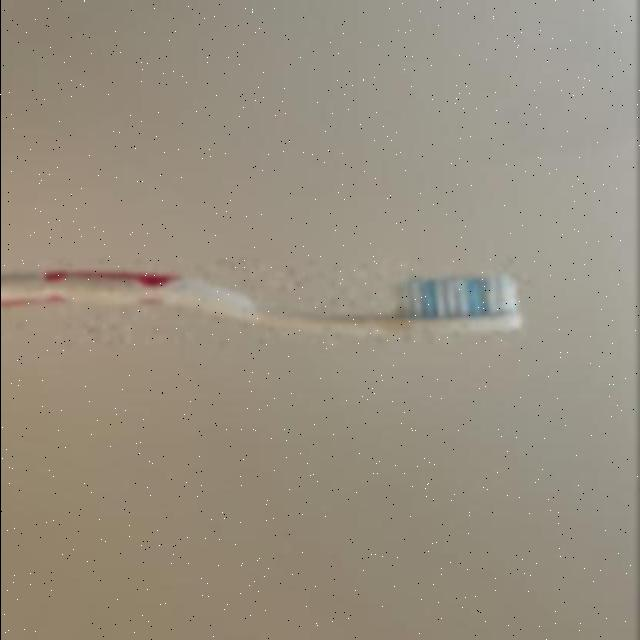toothbrush: (1, 260, 534, 344)
